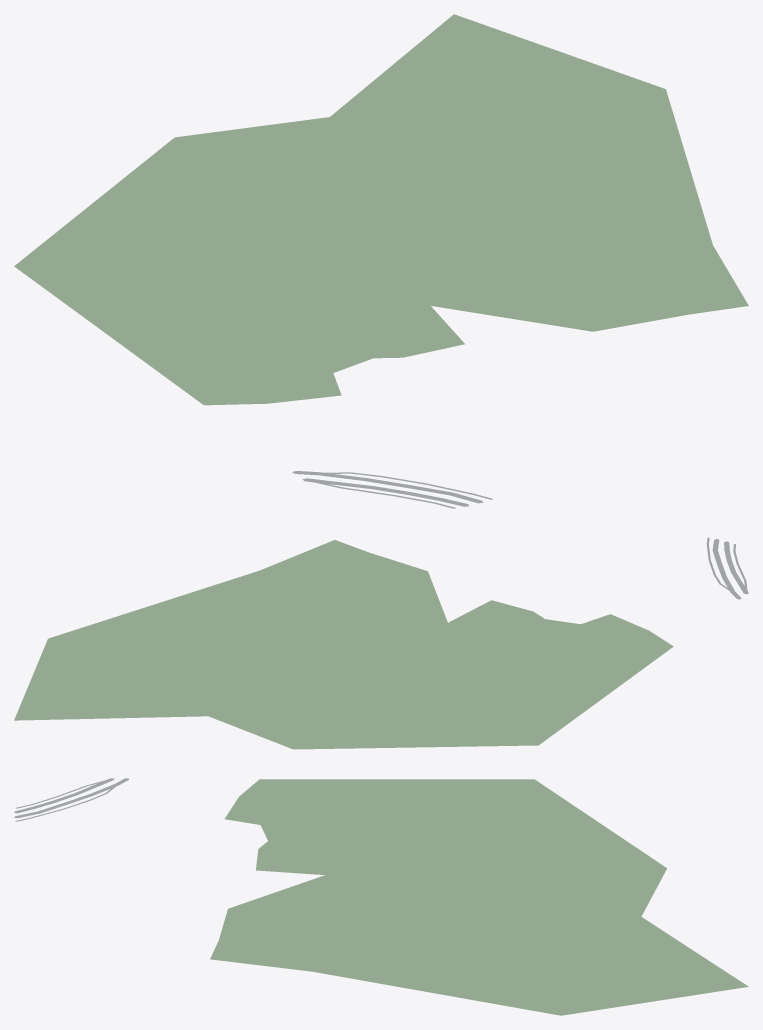
File: -6_19-known-coarse.glb
The picture shows the model from 3 angles, top to bottom: view 1: azimuth 30°, elevation 25°; view 2: azimuth 150°, elevation 25°; view 3: azimuth 270°, elevation 25°; orthographic projection. The views are drawn at different scales.
Bounding box in the file's own units: 728 × 0.1 × 952.
